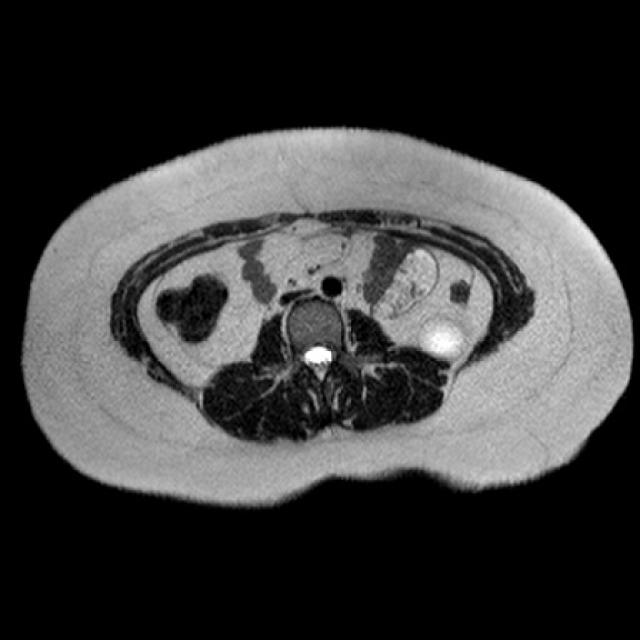sol: (415, 315, 470, 360)
